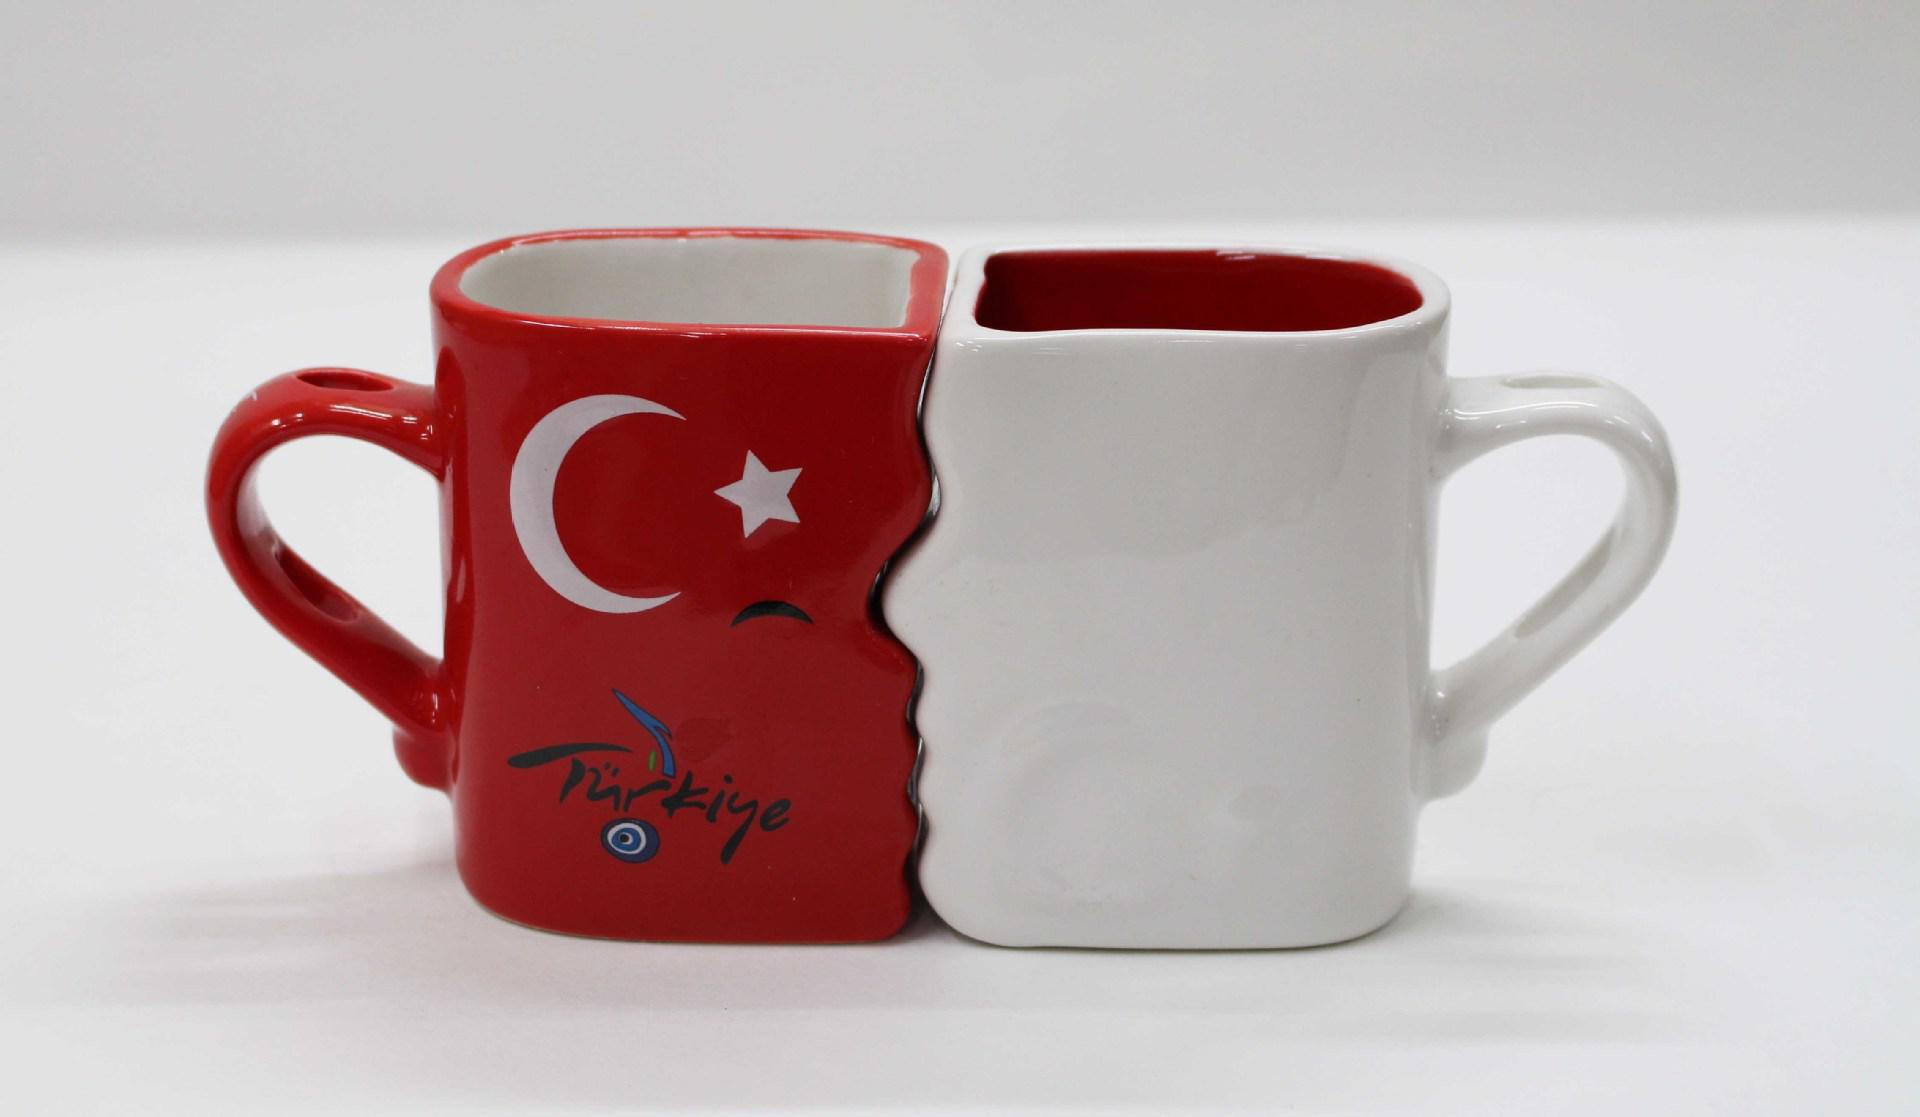cup: (202, 221, 949, 995), (900, 243, 1687, 960)
